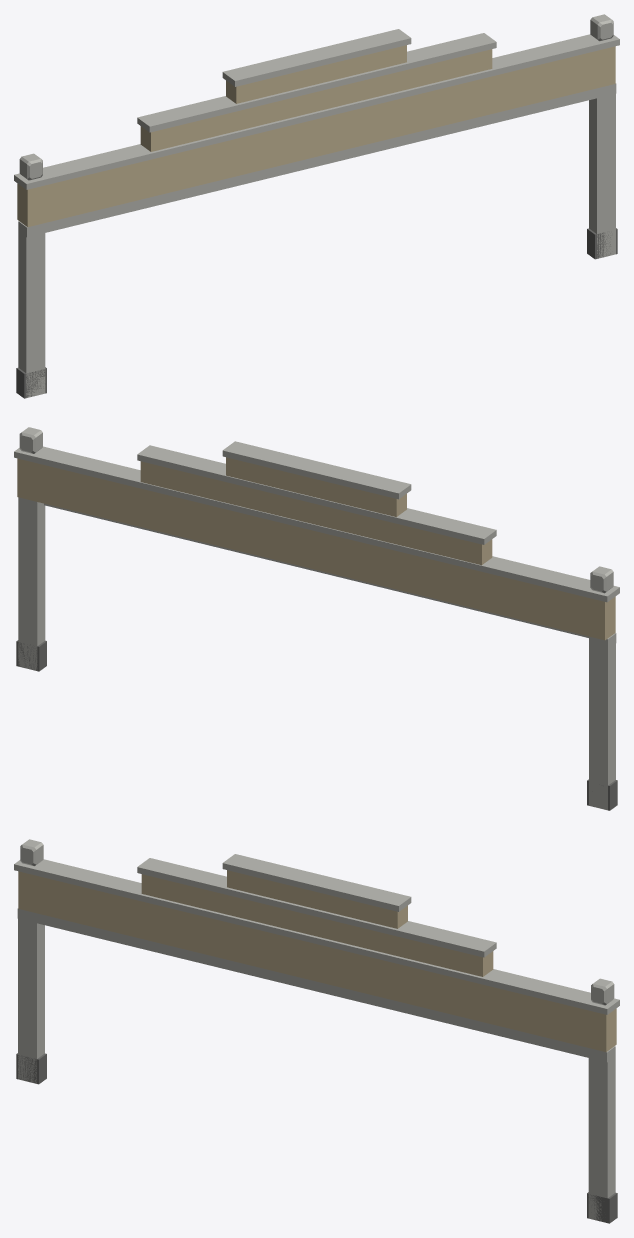
File: SM_Bld_Shop_Front_01.glb
The picture shows the model from 3 angles, top to bottom: view 1: azimuth 30°, elevation 25°; view 2: azimuth 150°, elevation 25°; view 3: azimuth 330°, elevation 25°; orthographic projection.
Visible parts, largest first — view 1: SM_Bld_Shop_Front_01; view 2: SM_Bld_Shop_Front_01; view 3: SM_Bld_Shop_Front_01.
Part boxes in pixels (box(x1,y1,x2,y2)): SM_Bld_Shop_Front_01: box(14, 14, 619, 398); SM_Bld_Shop_Front_01: box(14, 427, 619, 810); SM_Bld_Shop_Front_01: box(14, 839, 619, 1223).
Size of the model in its own units: 12.52 by 5.41 by 0.46.
Materials: 1 (1 with a texture image).
